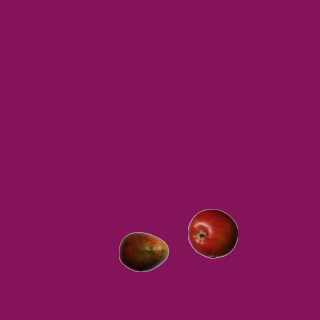Apple Braeburn: (187, 208, 237, 258)
Mango Red: (118, 226, 168, 276)
